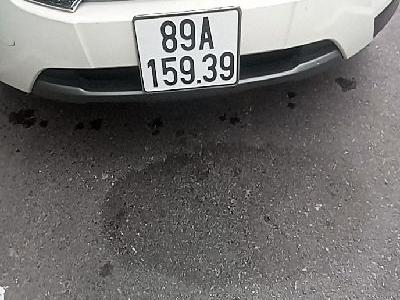number: (133, 6, 240, 93)
